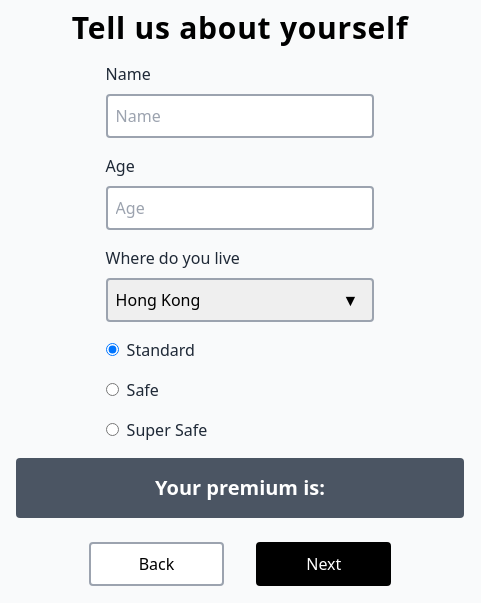
Scenario: SecondPage › is able to calculate price based on safe package
Type "10" into the number field with placeholder "Age" at (240, 208), box [106,186,374,230]
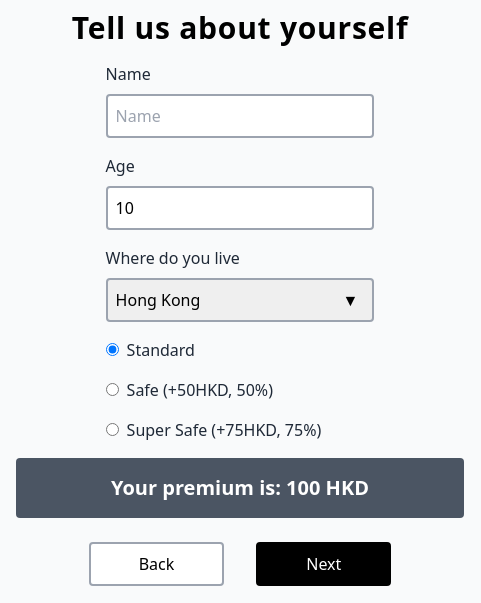
Select "Hong Kong" in the dropdown at (240, 300), box [106,278,374,322]
Click the radio button labelled "Safe (+50HKD, 50%)" at (112, 390), box [106,383,119,396]
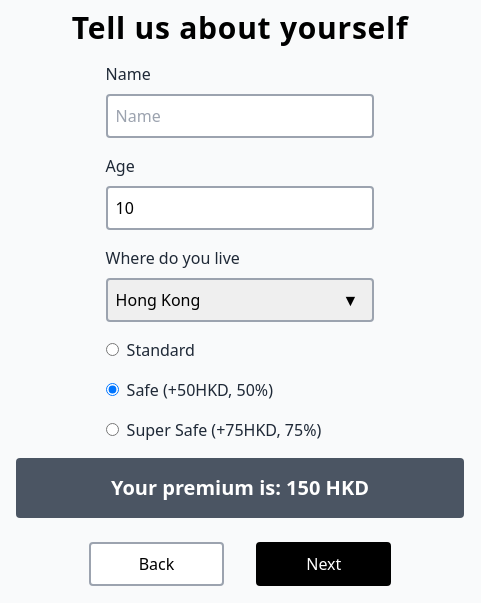
Expected: the element with test id "final-price" shows "150 HKD", [286,474,369,501]
Select "United States" in the dropdown at (240, 300), box [106,278,374,322]
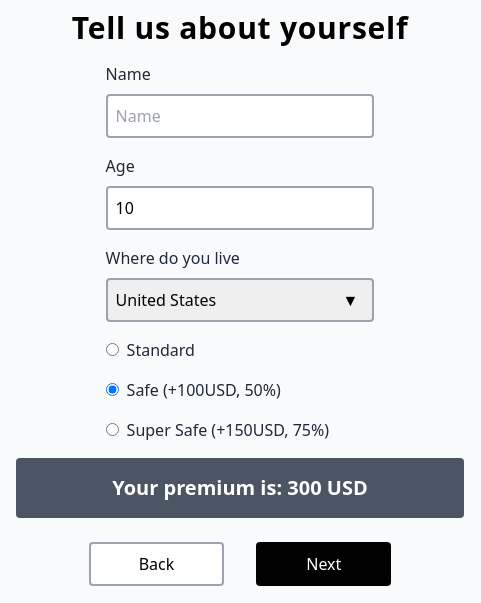
Expected: the element with test id "final-price" shows "300 USD", [287,474,368,501]
Select "Australia" in the dropdown at (240, 300), box [106,278,374,322]
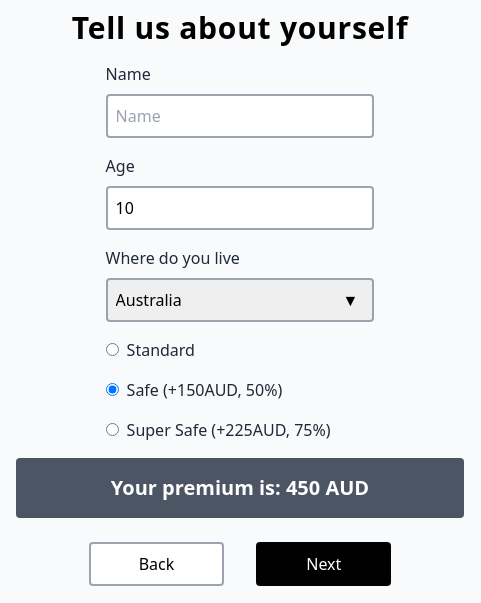
Expected: the element with test id "final-price" shows "450 AUD", [286,474,369,501]
